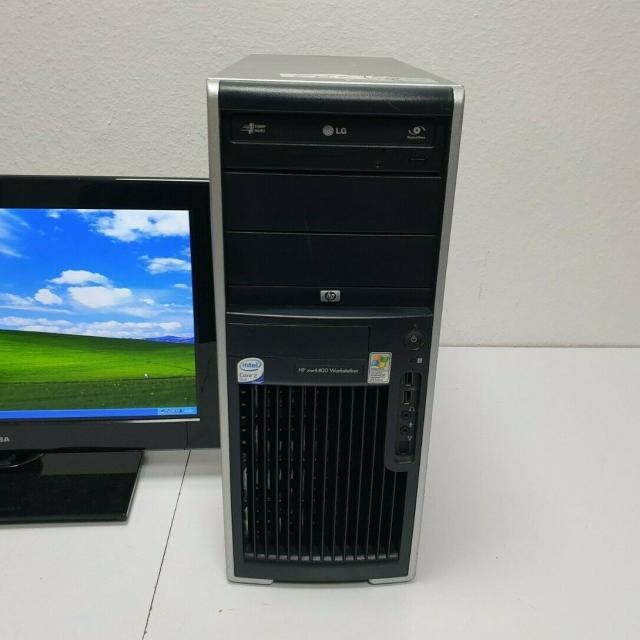Desktop-PC: (187, 41, 479, 609)
